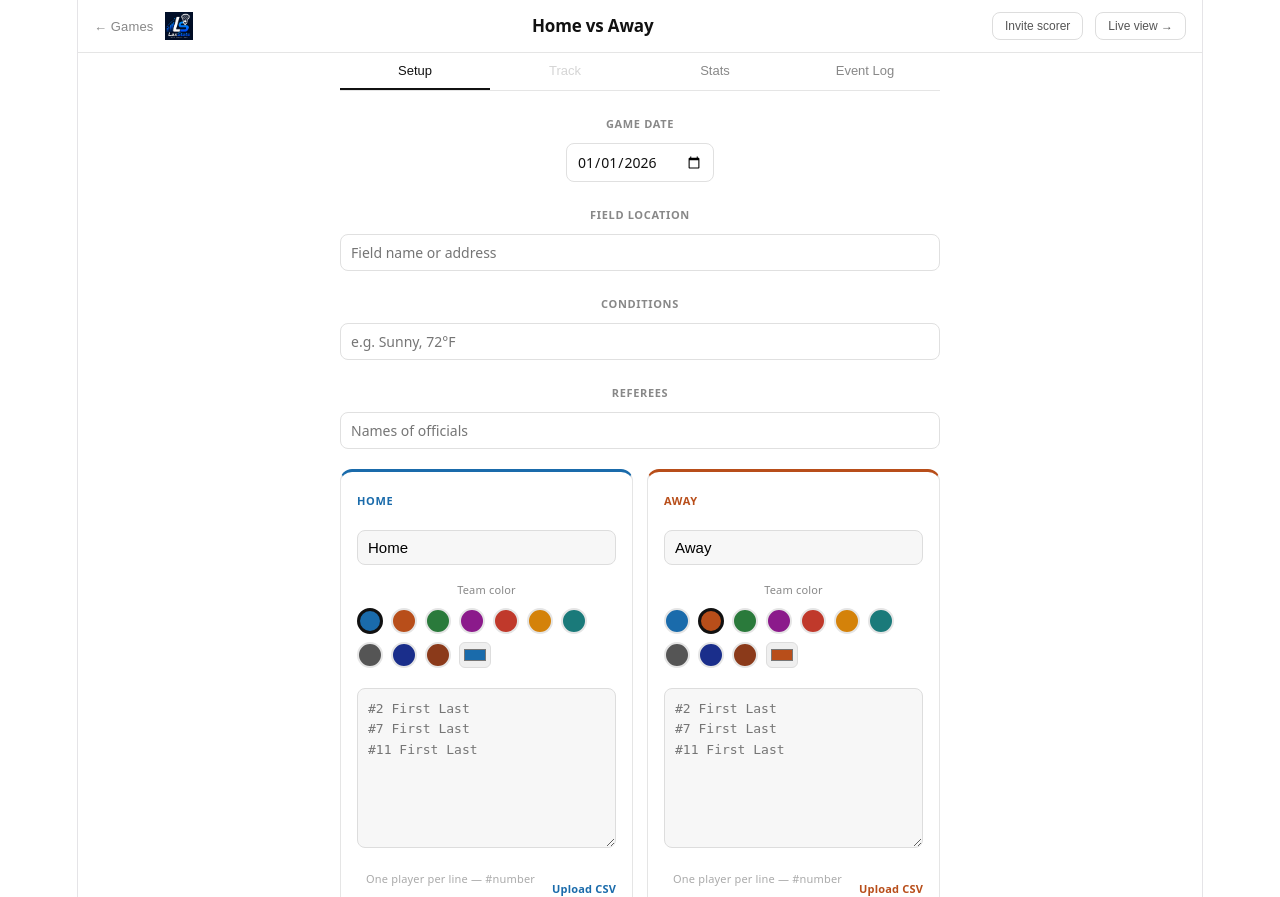
ScorekeeperV2 — invite scorer button › shows invite link panel after generation
Click the button "Invite scorer". click: (1038, 26)
box: x1=992 y1=12 x2=1083 y2=40
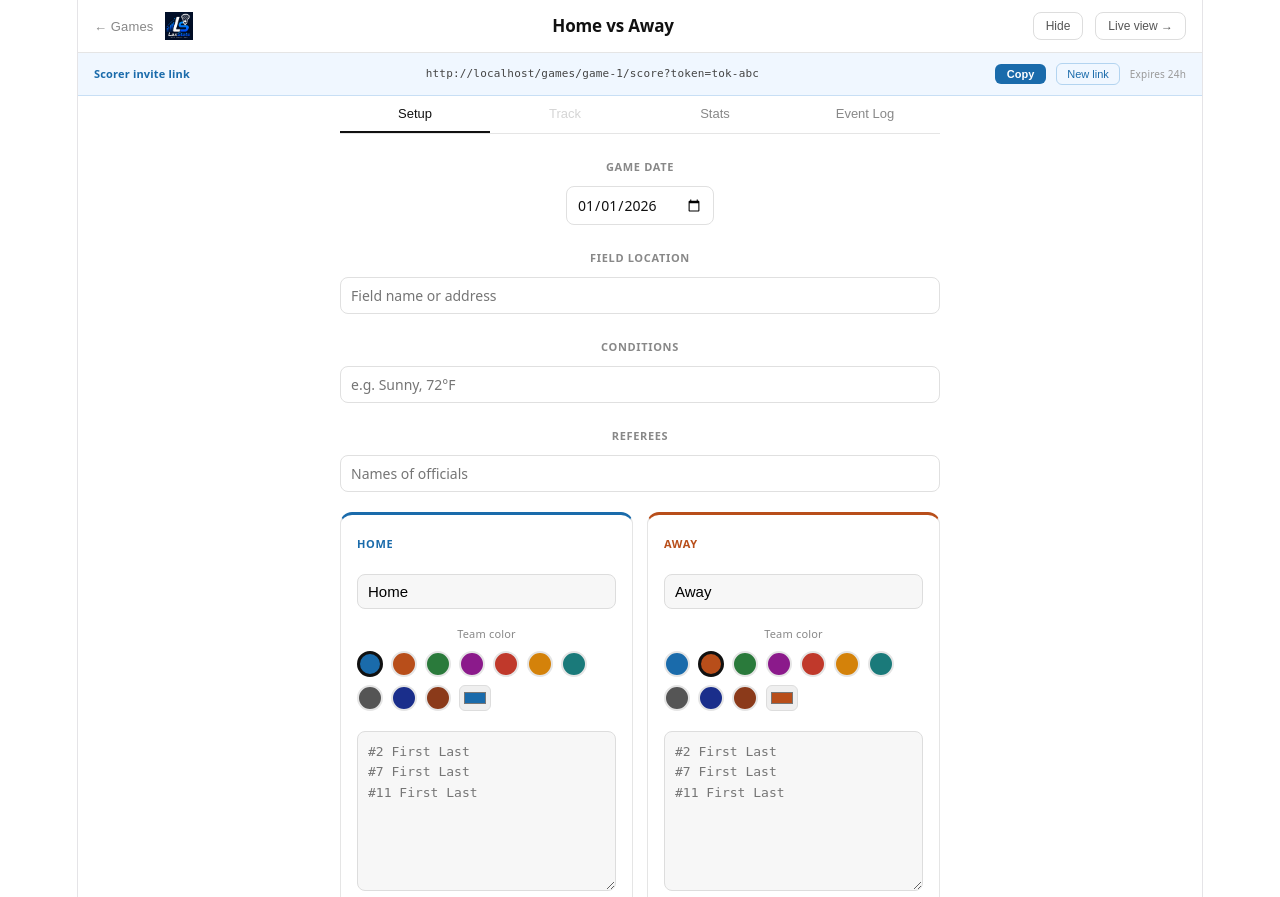
Result: the text "Scorer invite link" is shown at x1=94 y1=66 x2=190 y2=81
